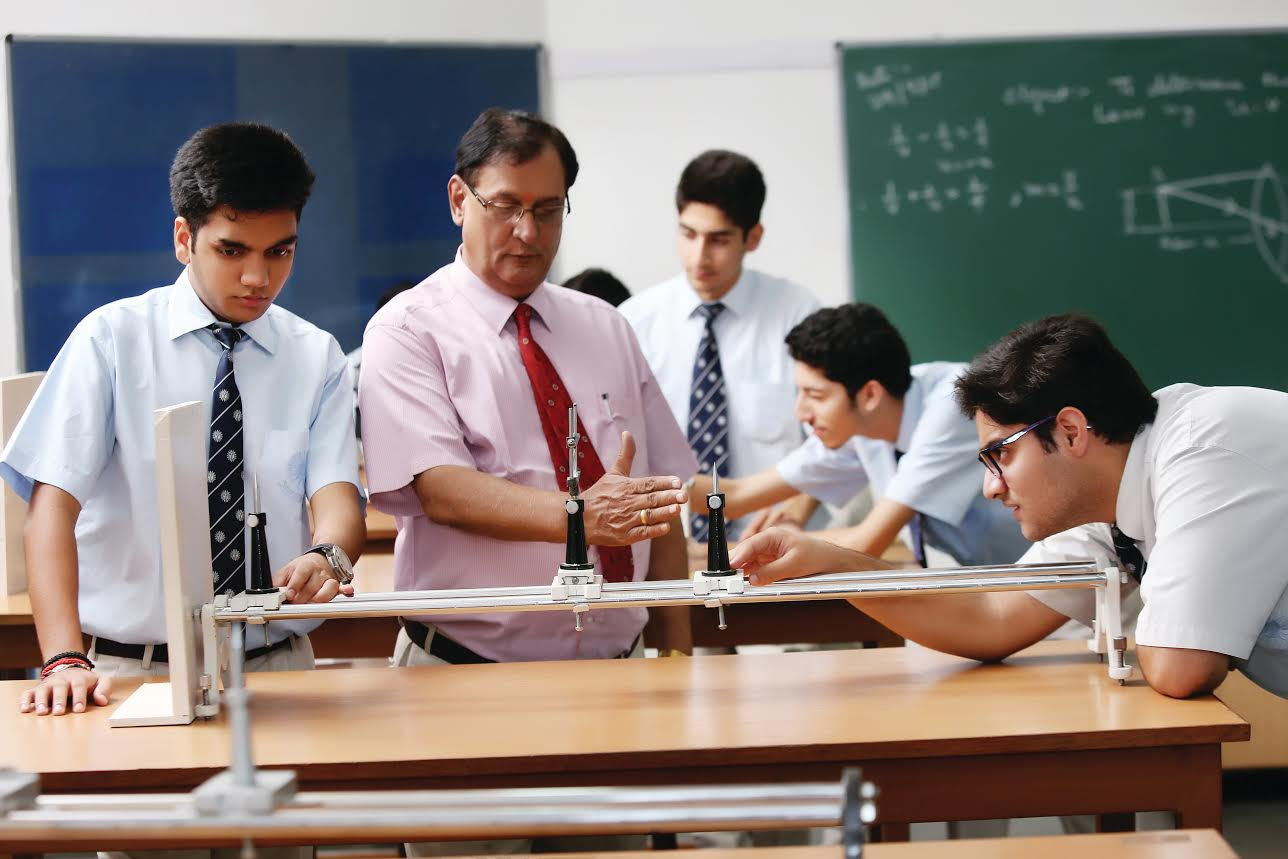Person: (23, 122, 350, 709), (370, 96, 663, 616), (890, 356, 1288, 689)
